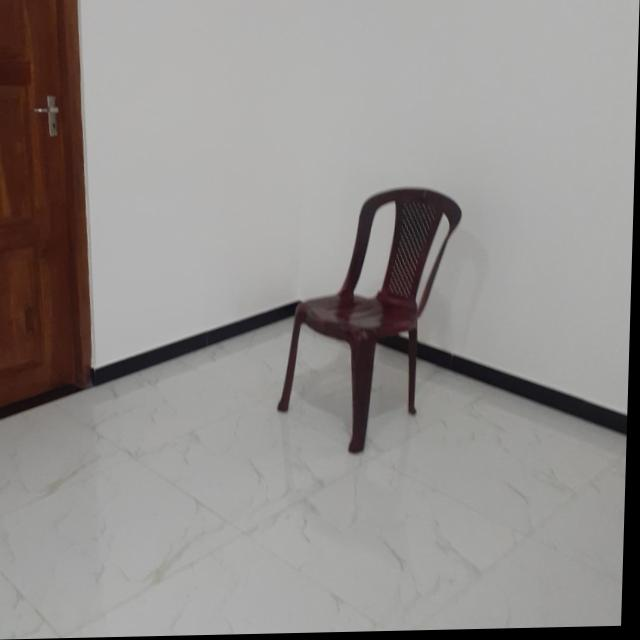Chair: (279, 187, 462, 460)
